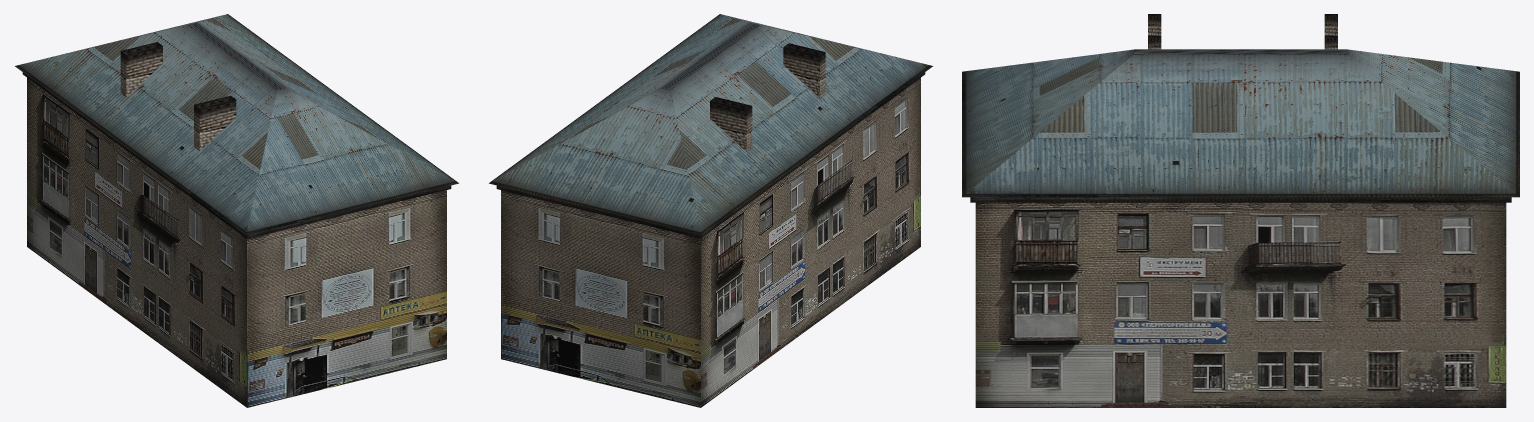
File: sibir_dom_3et1.FBX
The picture shows the model from 3 angles, left to right: view 1: azimuth 30°, elevation 25°; view 2: azimuth 150°, elevation 25°; view 3: azimuth 270°, elevation 25°; orthographic projection. The views are drawn at different scales.
Visible parts, largest first — view 1: sibir_dom_3et1; view 2: sibir_dom_3et1; view 3: sibir_dom_3et1.
Boxes of the visible parts, left/top/right/bottom form: sibir_dom_3et1: left=15, top=14, right=458, bottom=407; sibir_dom_3et1: left=489, top=14, right=932, bottom=407; sibir_dom_3et1: left=962, top=14, right=1519, bottom=407.
Bounding box in the file's own units: 10.27 × 19.29 × 11.34.
